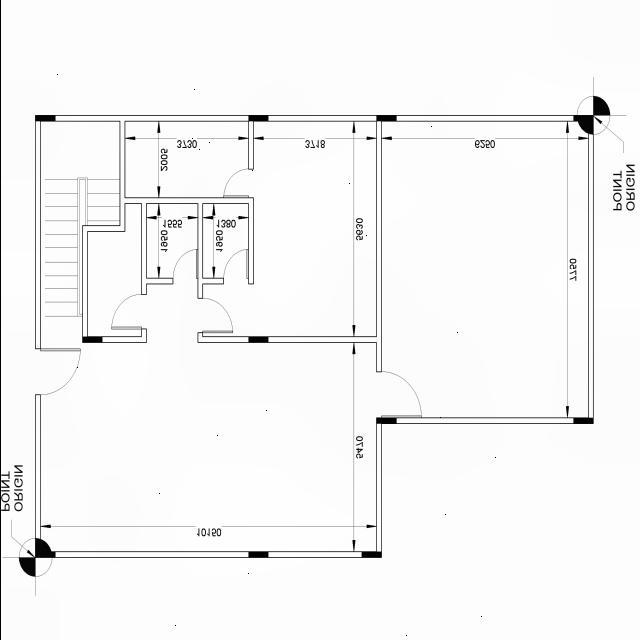Column: (34, 115, 54, 122), (248, 115, 268, 122), (376, 115, 396, 122), (572, 115, 592, 122), (360, 552, 380, 558), (248, 552, 268, 558), (34, 552, 54, 558), (248, 337, 268, 342), (572, 418, 592, 423), (376, 418, 396, 423), (82, 337, 102, 342), (34, 538, 40, 552), (587, 122, 593, 134)
Door: (375, 372, 421, 418), (34, 348, 80, 394), (196, 298, 232, 333), (110, 294, 146, 329), (222, 249, 252, 285), (222, 168, 252, 198), (172, 250, 198, 284)
Staircase: (40, 122, 119, 316)
